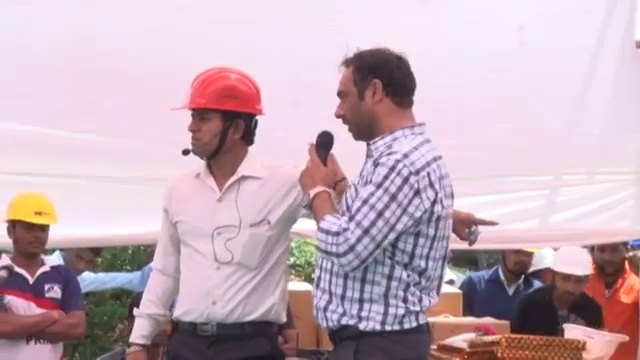helmet: (169, 67, 271, 122), (561, 321, 630, 358), (1, 192, 59, 230), (546, 246, 594, 278)
helmet_off: (333, 48, 424, 140), (123, 293, 172, 350), (501, 244, 541, 281), (592, 237, 626, 278), (59, 247, 96, 281)
helmet_on: (169, 69, 271, 179), (1, 194, 59, 263), (546, 248, 593, 302)
person: (302, 32, 468, 360), (126, 68, 306, 359), (0, 194, 82, 359), (511, 248, 602, 336), (463, 242, 556, 326), (585, 236, 639, 359)
